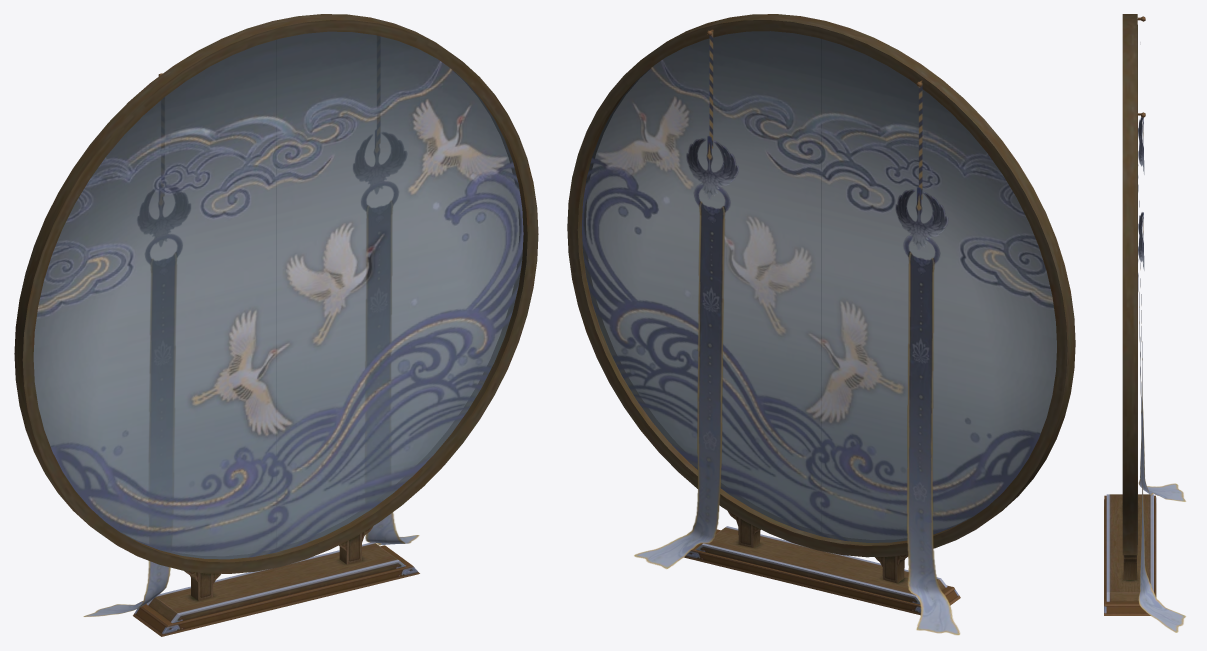
The model's file is furniture-20788.glb.
The picture shows the model from 3 angles, left to right: view 1: azimuth 30°, elevation 25°; view 2: azimuth 150°, elevation 25°; view 3: azimuth 270°, elevation 25°; orthographic projection. The views are drawn at different scales.
Size of the model in its own units: 2.29 by 2.44 by 0.3763.
1 material, 1 textured.
